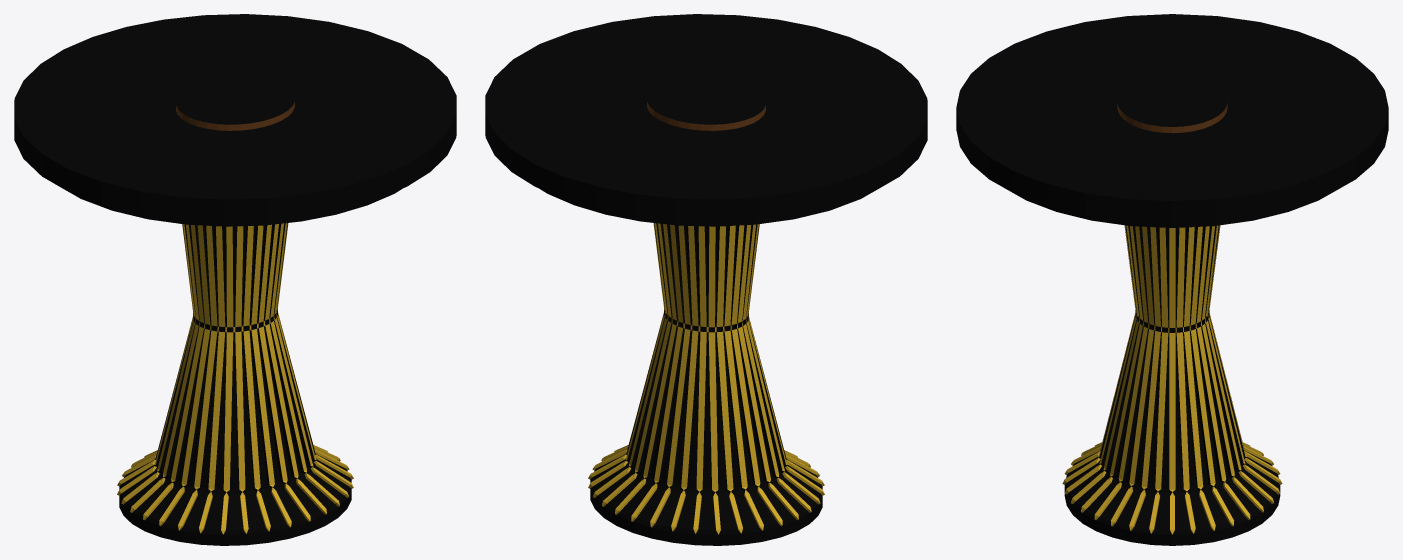
Rendered from Tables.fbx.
3 renders of one model, left to right at view 1: azimuth 30°, elevation 25°; view 2: azimuth 150°, elevation 25°; view 3: azimuth 270°, elevation 25°, orthographic.
Parts seen in each view (by area): view 1: Cylinder; view 2: Cylinder; view 3: Cylinder.
Boxes of the visible parts, bbox=[...] form: Cylinder: bbox=[14, 14, 456, 545]; Cylinder: bbox=[485, 14, 927, 545]; Cylinder: bbox=[956, 14, 1388, 545].
Size of the model in its own units: 235 by 231 by 229.
